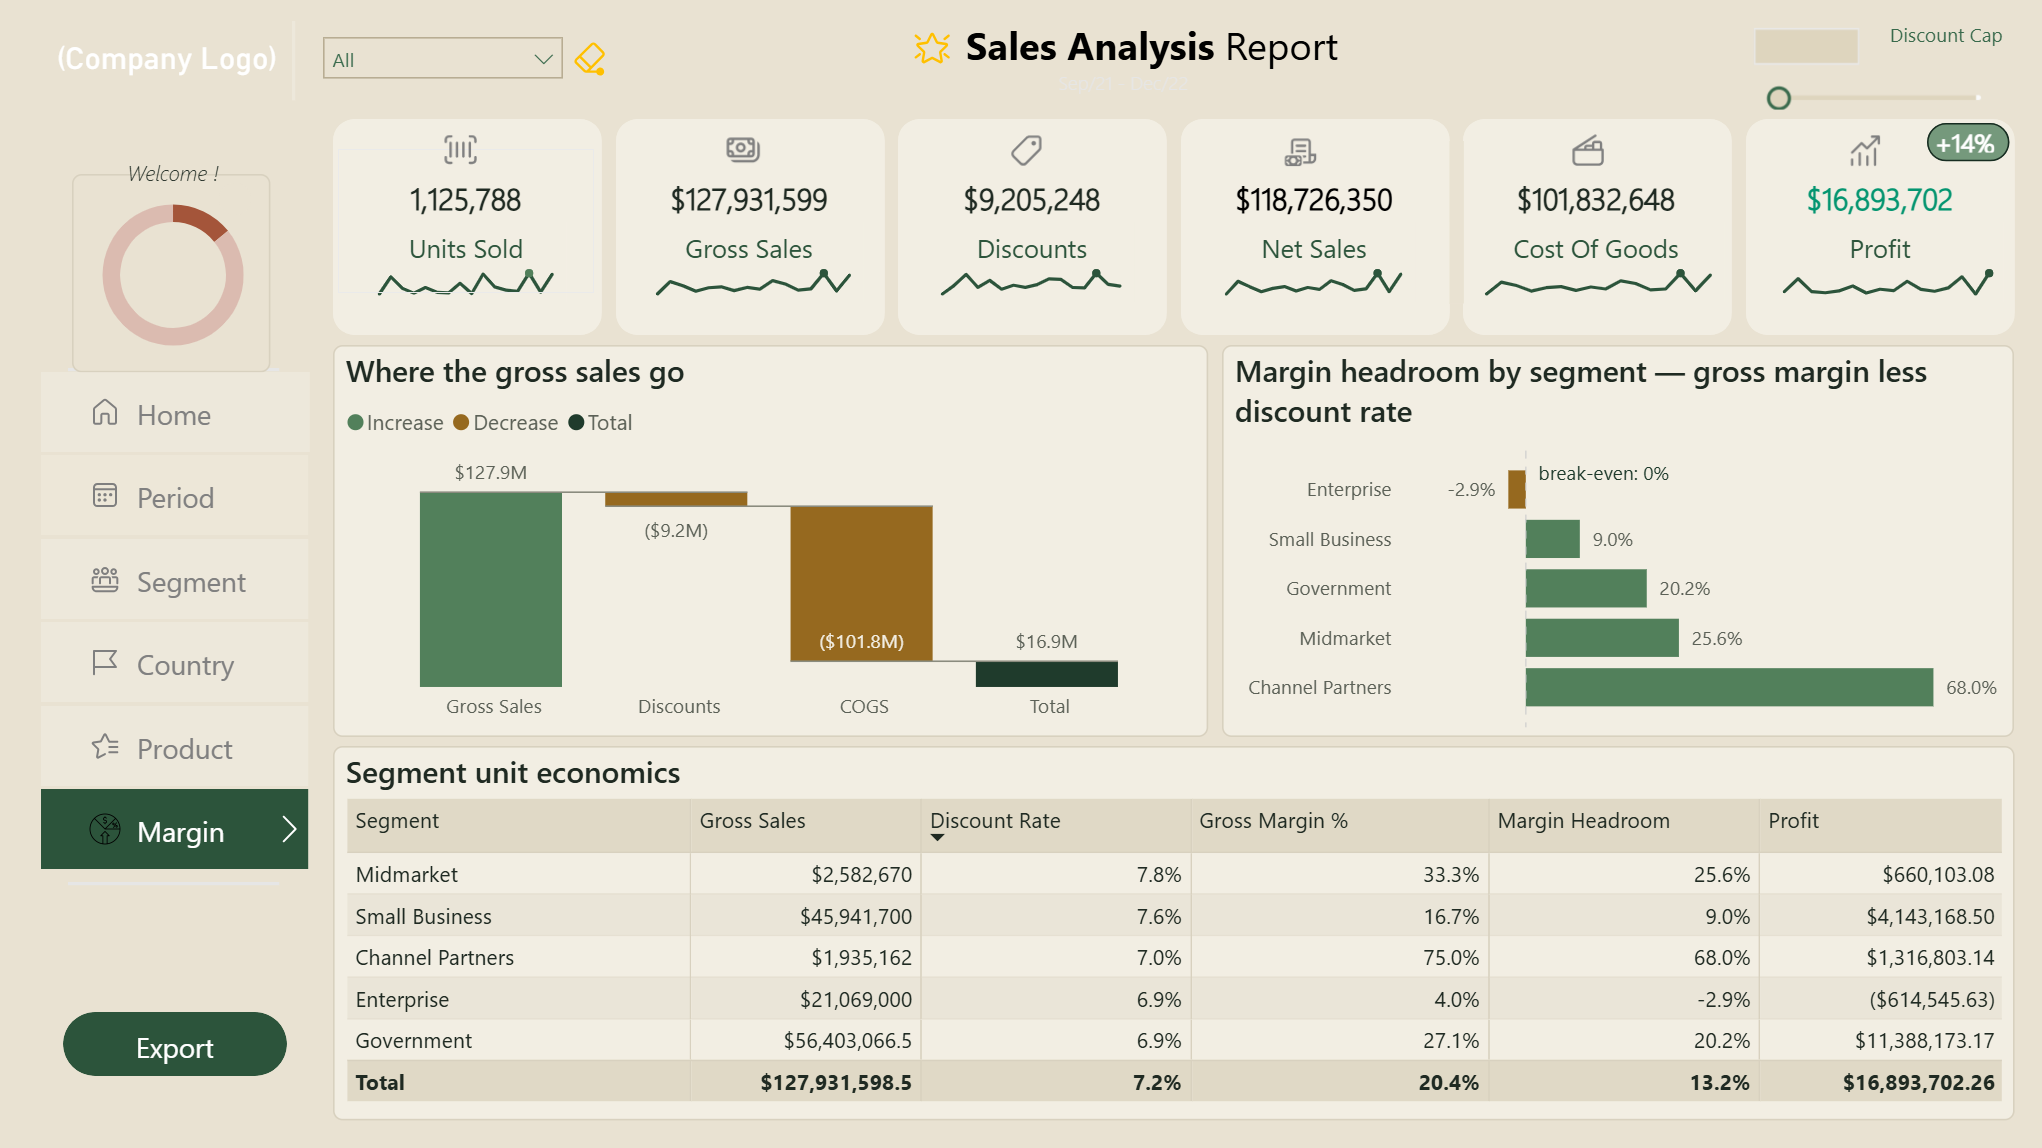

This screenshot's page, from the dashboard's own definition file:
{"tool":"powerbi","page":{"name":"Margin","canvas":[1280,720],"ordinal":2},"visuals":[{"type":"actionButton","title":"Button Title Icon","box":[553,10.9,63,44.1],"z":0,"group":"g1"},{"type":"textbox","title":"Text box Logo","box":[28,22.5,157.5,41.3],"z":0,"group":"g5"},{"type":"shape","box":[1093.6,77.1,168,135],"z":0},{"type":"shape","title":"Shape _Profit_YOY","box":[1207.2,79.2,51.5,24],"z":0,"group":"g6"},{"type":"pivotTable","fields":{"Rows":["DIM_MANAGERS.Image URL"]},"box":[67.1,127,85,85],"z":0,"group":"g2"},{"type":"actionButton","title":"Button_Help_Active","box":[28,496,167.1,50],"z":0,"group":"g3"},{"type":"actionButton","title":"Button_Export","box":[42,635,140,40],"z":0,"group":"g4"},{"type":"cardVisual","title":"Card Date Range","fields":{"Data":["Measure.M_Date Selection"]},"box":[643,29.1,123,41.9],"z":1000,"group":"g1"},{"type":"cardVisual","title":"Card_Profit_YOY","fields":{"Data":["Measure.M_Profit Margin Formatted"]},"box":[1195.1,71.8,73.5,31.1],"z":1000,"group":"g6"},{"type":"shape","box":[917,77.1,168,135],"z":1000},{"type":"shape","box":[65.7,132.7,85.7,85.7],"z":1000,"group":"g2"},{"type":"actionButton","title":"Button arrow","box":[165.1,496,30,50],"z":1000,"group":"g3"},{"type":"shape","title":"Shape_Bottom_Nav_divider","box":[45,539,132,32],"z":1000,"group":"g4"},{"type":"group","id":"g1","title":"Page Title","box":[553,9,334.1,62],"z":2000,"group":"g5"},{"type":"textbox","title":"Text box Title","box":[601.2,9,285.9,47.9],"z":2000,"group":"g1"},{"type":"shape","box":[740.5,77.1,168,135],"z":2000},{"type":"donutChart","title":"Donut Chart Profit Margin and Profit Margin Difference","fields":{"Y":["Measure.M_Profit Margin","Measure.M_100% Minus Profit Margin"]},"box":[47.1,111.3,124.3,124.3],"z":2000,"group":"g2"},{"type":"pivotTable","title":"Spark_Profit","fields":{"Values":["SparklineData(Measure.M_Profit_[DIM_DATE.YearMonth])"]},"box":[1089.1,136.2,171.9,61.9],"z":2000,"group":"g6"},{"type":"shape","title":"Shape_Top_Nav_divider","box":[45,218,132,32],"z":2000,"group":"g4"},{"type":"slicer","title":"Slicer Managers","fields":{"Values":["DIM_MANAGERS.Manager Name"]},"box":[194,15.6,170,49.6],"z":3000,"group":"g5"},{"type":"shape","box":[563.9,77.1,168,135],"z":3000},{"type":"group","id":"g2","title":"Group_Mgr Image","box":[33.3,87.8,154.4,147.8],"z":3000,"group":"g4"},{"type":"shape","title":"Shape Hide Scrol","box":[139.2,117,20,20],"z":3000,"group":"g2"},{"type":"pivotTable","title":"Spark_COG","fields":{"Values":["SparklineData(Measure.M_Cost Of Goods_[DIM_DATE.YearMonth])"]},"box":[903,136.2,183.1,60.6],"z":3000,"group":"g6"},{"type":"slicer","title":"Discount Cap","fields":{"Values":["Discount Cap.Discount Cap"]},"box":[1085.7,10,175.9,61.3],"z":3500,"group":"g5"},{"type":"textbox","box":[1176,10,83,27],"z":3750,"group":"g5"},{"type":"actionButton","title":"Button Clear Managers","box":[353,25.5,36,27.6],"z":4000,"group":"g5"},{"type":"shape","box":[387.4,77.1,168,135],"z":4000},{"type":"cardVisual","title":"Card Welcome","fields":{"Data":["Measure.M_User Greeting"]},"box":[33.3,87.8,154.4,36.7],"z":4000,"group":"g2"},{"type":"pivotTable","title":"Spark_Net_Sales","fields":{"Values":["SparklineData(Measure.M_Net Sales_[DIM_DATE.YearMonth])"]},"box":[739.9,136.2,169.3,61.9],"z":4000,"group":"g6"},{"type":"group","id":"g3","title":"Button_Help","box":[28,496,167.1,50],"z":4000,"group":"g4"},{"type":"shape","title":"Divider Line Left","box":[170,15.6,32,49.6],"z":5000,"group":"g5"},{"type":"shape","box":[210.8,77.1,168,135],"z":5000},{"type":"pivotTable","title":"Spark_Dscounts","fields":{"Values":["SparklineData(Measure.M_Discounts_[DIM_DATE.YearMonth])"]},"box":[562.7,136.2,169.3,61.9],"z":5000,"group":"g6"},{"type":"pivotTable","title":"Spark_Gross_Sales","fields":{"Values":["SparklineData(Measure.M_Gross Sales_[DIM_DATE.YearMonth])"]},"box":[384.8,136.2,171.3,61.9],"z":6000,"group":"g6"},{"type":"waterfallChart","title":"Where the gross sales go","fields":{"Category":["Bridge Step.Step"],"Y":["Margin & Discount.M_PL Bridge"]},"box":[210.8,218.1,546.8,245.1],"z":6000},{"type":"actionButton","title":"Button_Product","box":[28,443.8,167.1,50],"z":6000,"group":"g4"},{"type":"pivotTable","title":"Spark_Unit_Sold","fields":{"Values":["SparklineData(Measure.M_Units Sold_[DIM_DATE.YearMonth])"]},"box":[210.8,136.2,167.3,61.9],"z":6500,"group":"g6"},{"type":"cardVisual","title":"Card_Profit","fields":{"Data":["Measure.M_Profit"]},"box":[1090,95.3,175,90],"z":7000,"group":"g6"},{"type":"clusteredBarChart","title":"Margin headroom by segment — gross margin less discount rate","fields":{"Category":["FACT_SALES.Segment"],"Y":["Margin & Discount.M_Margin Headroom pp"]},"box":[766.2,218.1,495.4,245.1],"z":7000},{"type":"cardVisual","title":"Card_COG","fields":{"Data":["Measure.M_Cost Of Goods"]},"box":[920,95.3,160,90],"z":8000,"group":"g6"},{"type":"actionButton","title":"Button_Country","box":[28,391.6,167.1,50],"z":8000,"group":"g4"},{"type":"tableEx","title":"Segment unit economics","fields":{"Values":["FACT_SALES.Segment","Measure.M_Gross Sales","Margin & Discount.M_Discount Rate","Margin & Discount.M_Gross Margin %","Margin & Discount.M_Margin Headroom pp","Measure.M_Profit"]},"box":[210.8,469,1050.7,233.9],"z":8000},{"type":"group","id":"g4","title":"Navigation","box":[28,87.8,168,587.2],"z":9000},{"type":"cardVisual","title":"Card_Net_Sales","fields":{"Data":["Measure.M_Net Sales"]},"box":[744,95.3,160,90],"z":9000,"group":"g6"},{"type":"group","id":"g5","title":"Header","box":[28,9,1233.6,62.3],"z":10000},{"type":"cardVisual","title":"Card_Discount","fields":{"Data":["Measure.M_Discounts"]},"box":[568,95.3,160,90],"z":10000,"group":"g6"},{"type":"actionButton","title":"Button_Segment","box":[28,339.4,167.1,50],"z":10000,"group":"g4"},{"type":"group","id":"g6","title":"Static","box":[210.8,71.8,1057.9,126.3],"z":11000},{"type":"cardVisual","title":"Card_Gross_Sales","fields":{"Data":["Measure.M_Gross Sales"]},"box":[391,95.3,160,90],"z":11000,"group":"g6"},{"type":"shape","box":[907,90.5,12.1,101.6],"z":12000},{"type":"cardVisual","title":"Card_Unit_Sold","fields":{"Data":["Measure.M_Units Sold"]},"box":[214,95.3,160,90],"z":12000,"group":"g6"},{"type":"actionButton","title":"Button_Period","box":[28,287.2,167.1,50],"z":12000,"group":"g4"},{"type":"actionButton","title":"Button_Home","box":[28,235,168,50],"z":13000,"group":"g4"},{"type":"actionButton","title":"Button_Profit","box":[1152.5,81.3,33.1,30.9],"z":14000,"group":"g6"},{"type":"actionButton","title":"Button_COG","box":[979.5,80.8,33.6,31.4],"z":15000,"group":"g6"},{"type":"actionButton","title":"Button_Net_Sales","box":[800.9,81.3,33.1,30.9],"z":16000,"group":"g6"},{"type":"actionButton","title":"Button_Discount","box":[628.1,81,32.9,31.2],"z":17000,"group":"g6"},{"type":"actionButton","title":"Button_Gross_Sales","box":[450.9,79.4,33.6,32.9],"z":18000,"group":"g6"},{"type":"actionButton","title":"Button_Unit_Sold","box":[274.5,80.2,32.3,32],"z":19000,"group":"g6"}]}

Visuals, with their boxes in screenshot pixels (x1, y1, x2, y2), scaled from the page's 1280x720 canvas onto the 2042x1148 screenshot:
"Button Title Icon" actionButton: box=[882, 17, 983, 88]
"Text box Logo" textbox: box=[45, 36, 296, 102]
shape: box=[1745, 123, 2013, 338]
"Shape _Profit_YOY" shape: box=[1926, 126, 2008, 165]
pivotTable - DIM_MANAGERS.Image URL: box=[107, 202, 243, 338]
"Button_Help_Active" actionButton: box=[45, 791, 311, 871]
"Button_Export" actionButton: box=[67, 1012, 290, 1076]
"Card Date Range" cardVisual: box=[1026, 46, 1222, 113]
"Card_Profit_YOY" cardVisual: box=[1907, 114, 2024, 164]
shape: box=[1463, 123, 1731, 338]
shape: box=[105, 212, 242, 348]
"Button arrow" actionButton: box=[263, 791, 311, 871]
"Shape_Bottom_Nav_divider" shape: box=[72, 859, 282, 910]
"Page Title" group: box=[882, 14, 1415, 113]
"Text box Title" textbox: box=[959, 14, 1415, 91]
shape: box=[1181, 123, 1449, 338]
"Donut Chart Profit Margin and Profit Margin Difference" donutChart: box=[75, 177, 273, 376]
"Spark_Profit" pivotTable: box=[1737, 217, 2012, 316]
"Shape_Top_Nav_divider" shape: box=[72, 348, 282, 399]
"Slicer Managers" slicer: box=[309, 25, 581, 104]
shape: box=[900, 123, 1168, 338]
"Group_Mgr Image" group: box=[53, 140, 299, 376]
"Shape Hide Scrol" shape: box=[222, 187, 254, 218]
"Spark_COG" pivotTable: box=[1441, 217, 1733, 314]
"Discount Cap" slicer: box=[1732, 16, 2013, 114]
textbox: box=[1876, 16, 2008, 59]
"Button Clear Managers" actionButton: box=[563, 41, 621, 85]
shape: box=[618, 123, 886, 338]
"Card Welcome" cardVisual: box=[53, 140, 299, 199]
"Spark_Net_Sales" pivotTable: box=[1180, 217, 1450, 316]
"Button_Help" group: box=[45, 791, 311, 871]
"Divider Line Left" shape: box=[271, 25, 322, 104]
shape: box=[336, 123, 604, 338]
"Spark_Dscounts" pivotTable: box=[898, 217, 1168, 316]
"Spark_Gross_Sales" pivotTable: box=[614, 217, 887, 316]
"Where the gross sales go" waterfallChart: box=[336, 348, 1209, 739]
"Button_Product" actionButton: box=[45, 708, 311, 787]
"Spark_Unit_Sold" pivotTable: box=[336, 217, 603, 316]
"Card_Profit" cardVisual: box=[1739, 152, 2018, 295]
"Margin headroom by segment — gross margin less discount rate" clusteredBarChart: box=[1222, 348, 2013, 739]
"Card_COG" cardVisual: box=[1468, 152, 1723, 295]
"Button_Country" actionButton: box=[45, 624, 311, 704]
"Segment unit economics" tableEx: box=[336, 748, 2012, 1121]
"Navigation" group: box=[45, 140, 313, 1076]
"Card_Net_Sales" cardVisual: box=[1187, 152, 1442, 295]
"Header" group: box=[45, 14, 2013, 114]
"Card_Discount" cardVisual: box=[906, 152, 1161, 295]
"Button_Segment" actionButton: box=[45, 541, 311, 621]
"Static" group: box=[336, 114, 2024, 316]
"Card_Gross_Sales" cardVisual: box=[624, 152, 879, 295]
shape: box=[1447, 144, 1466, 306]
"Card_Unit_Sold" cardVisual: box=[341, 152, 597, 295]
"Button_Period" actionButton: box=[45, 458, 311, 538]
"Button_Home" actionButton: box=[45, 375, 313, 454]
"Button_Profit" actionButton: box=[1839, 130, 1891, 179]
"Button_COG" actionButton: box=[1563, 129, 1616, 179]
"Button_Net_Sales" actionButton: box=[1278, 130, 1330, 179]
"Button_Discount" actionButton: box=[1002, 129, 1055, 179]
"Button_Gross_Sales" actionButton: box=[719, 127, 773, 179]
"Button_Unit_Sold" actionButton: box=[438, 128, 489, 179]
